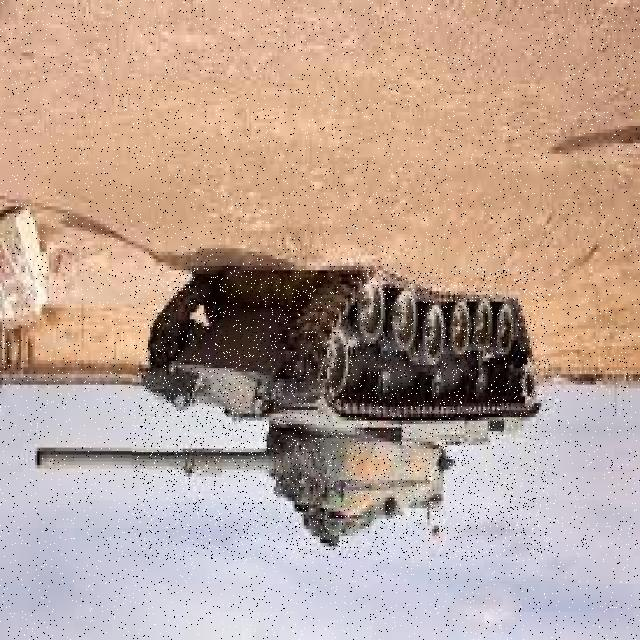MIL_MBT: (132, 267, 551, 559)
